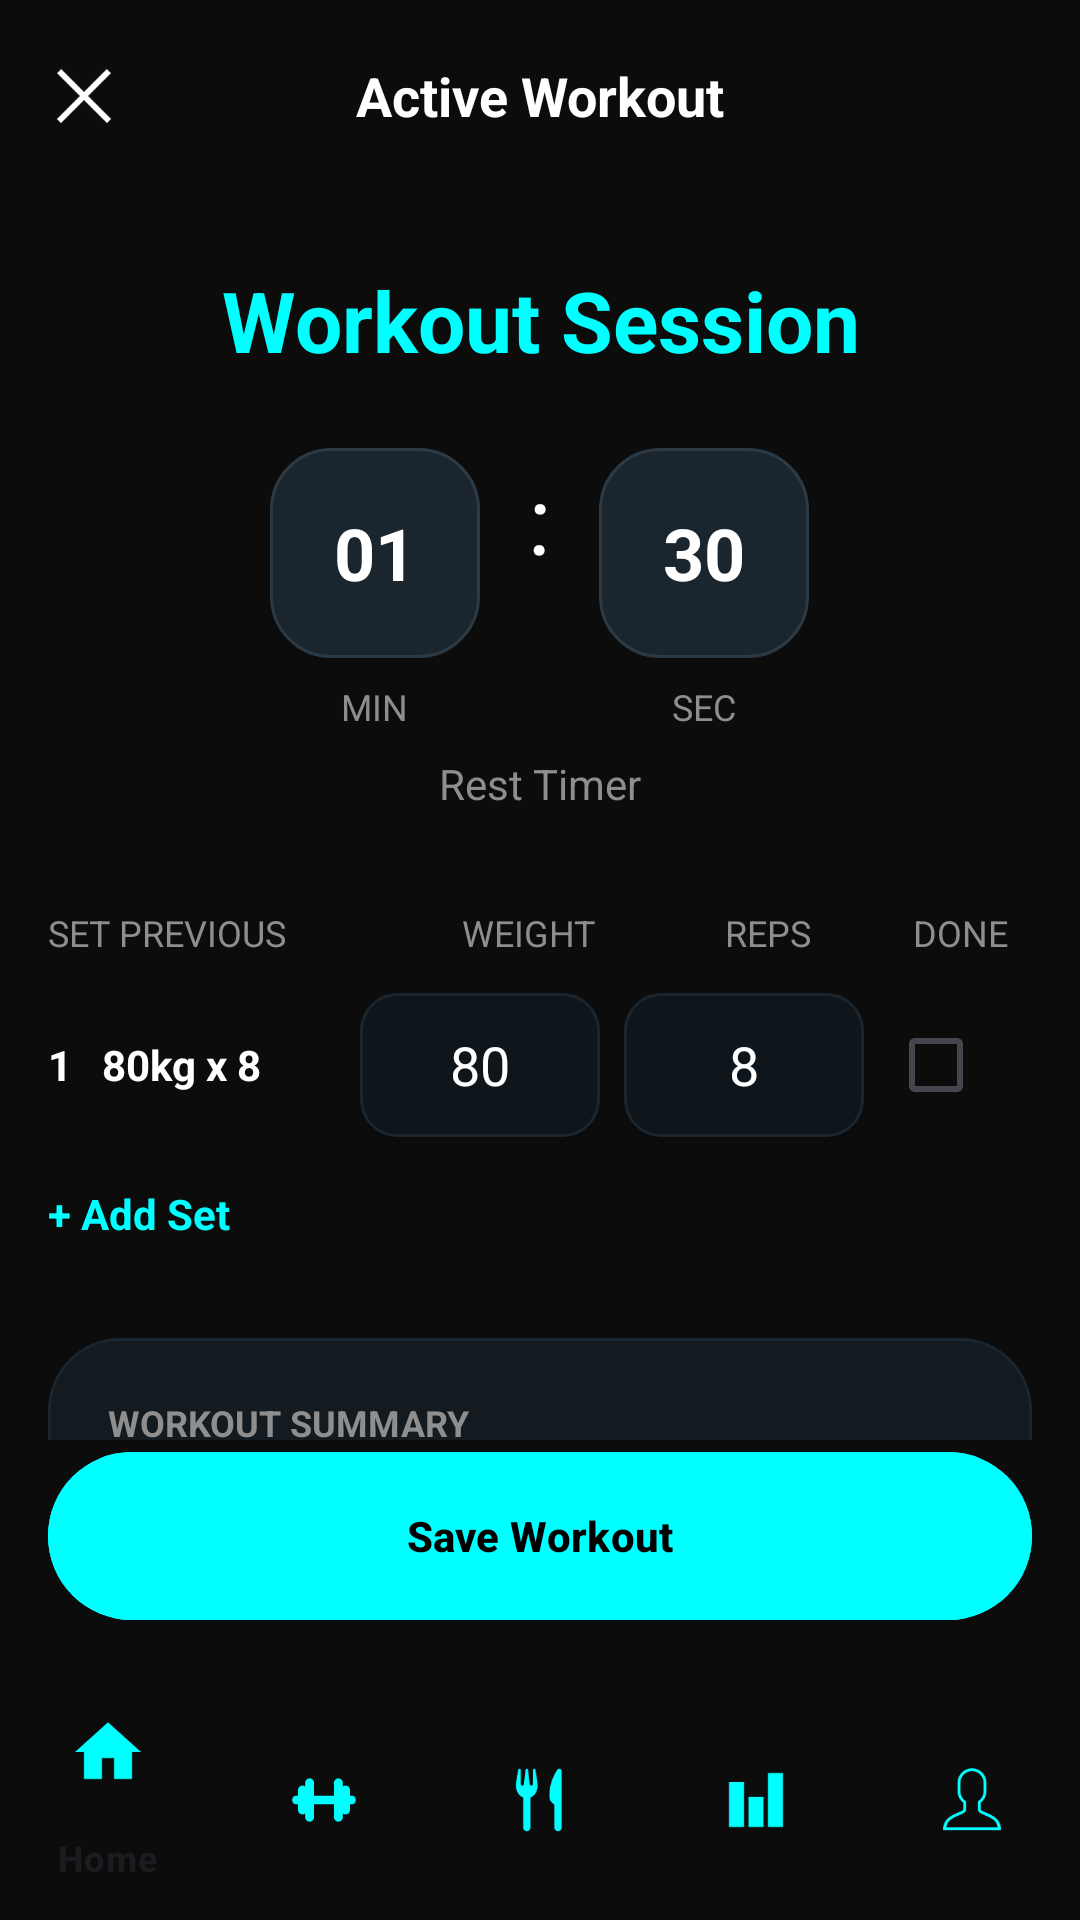

Locate icon controls on the screen. Image size 1080×1920, boxes as (x1, y1, x2, y2).
close: (57, 69, 111, 123)
